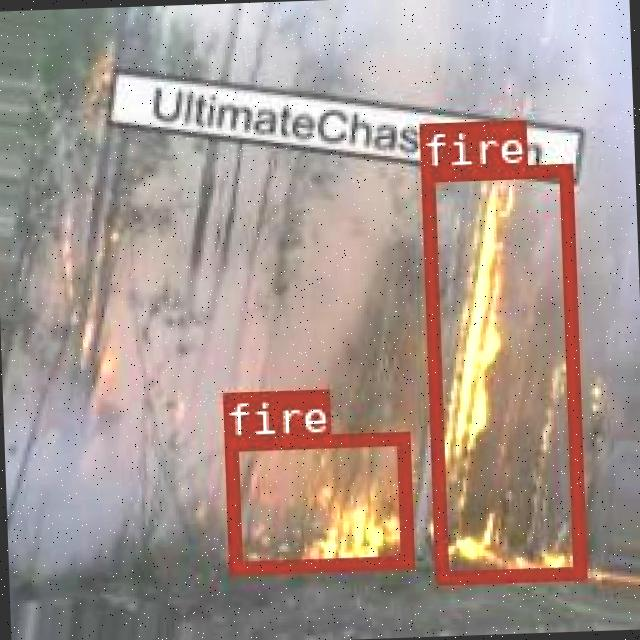fire: (420, 160, 584, 582), (223, 429, 412, 571)
